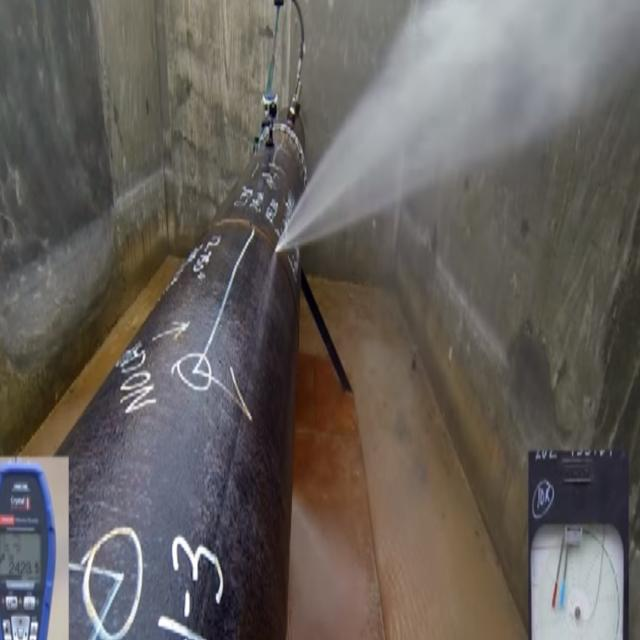leak: (273, 0, 640, 255)
